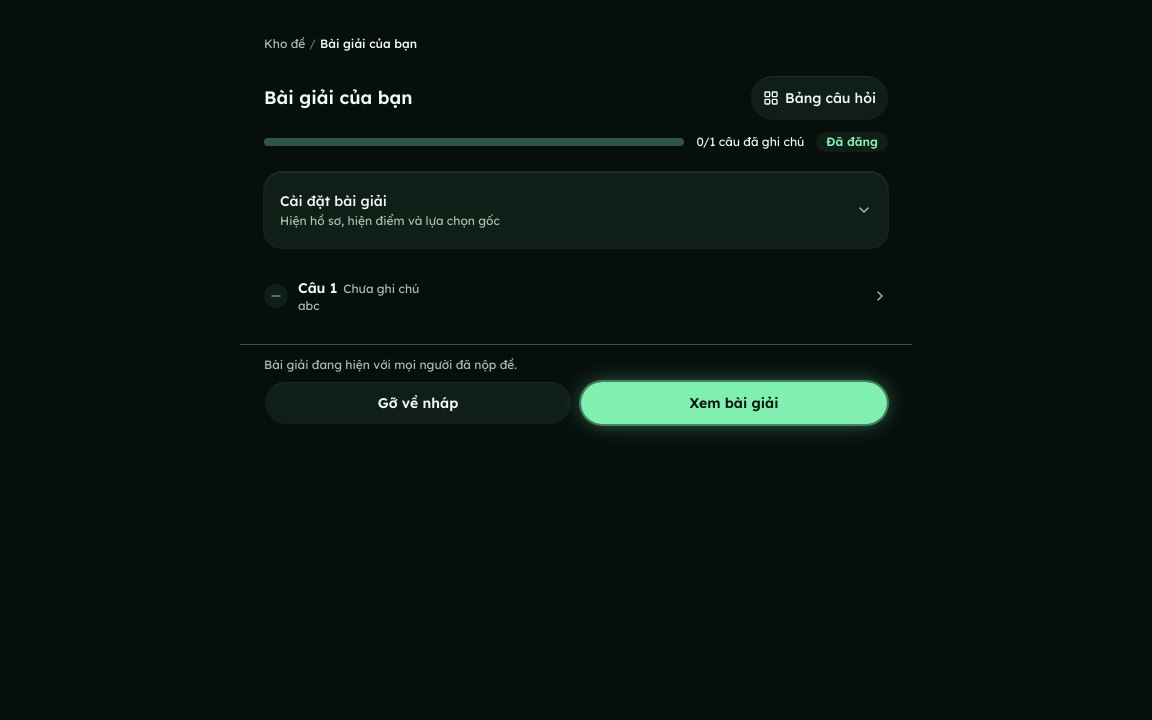
SolutionEditorScreen — NoteSheet, lỗi belowWordCount (Required Test #1) › role=alert đúng chữ, chữ trong ô không mất, tấm trượt vẫn mở
The width and height of the screenshot is (1152, 720).
Click the button with aria-label "Câu 1," at (318, 288), box [264,268,888,324]
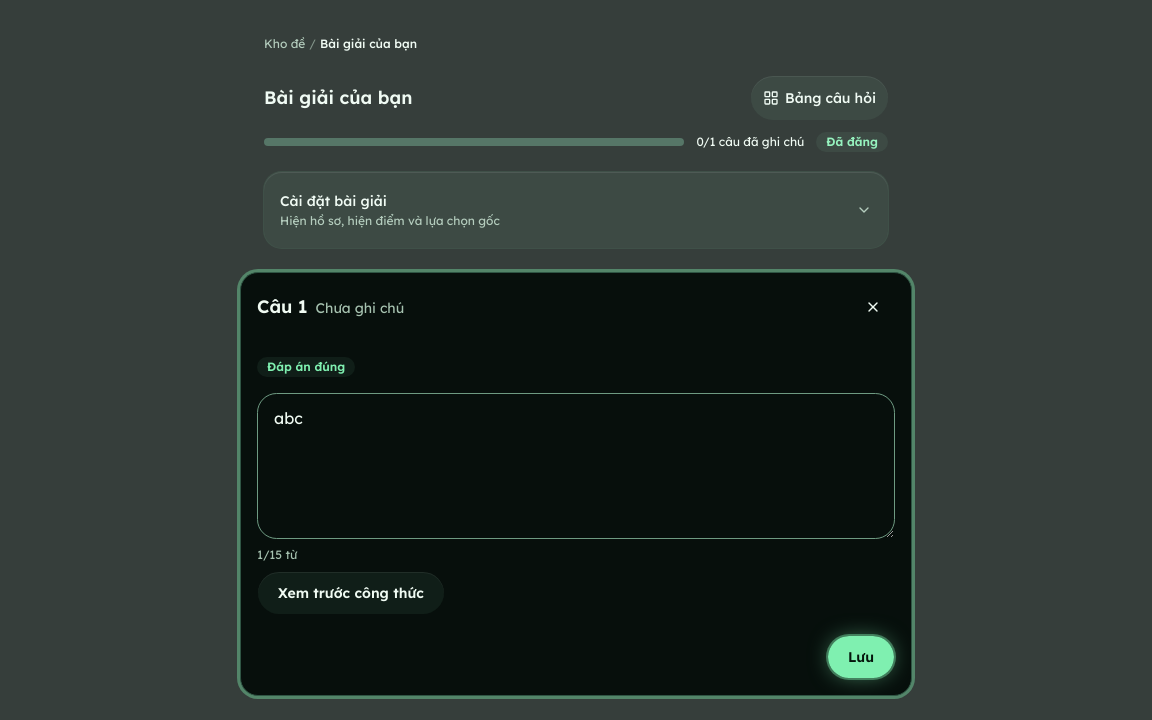
Click the button "Lưu" at (861, 657), box [827,635,895,679]
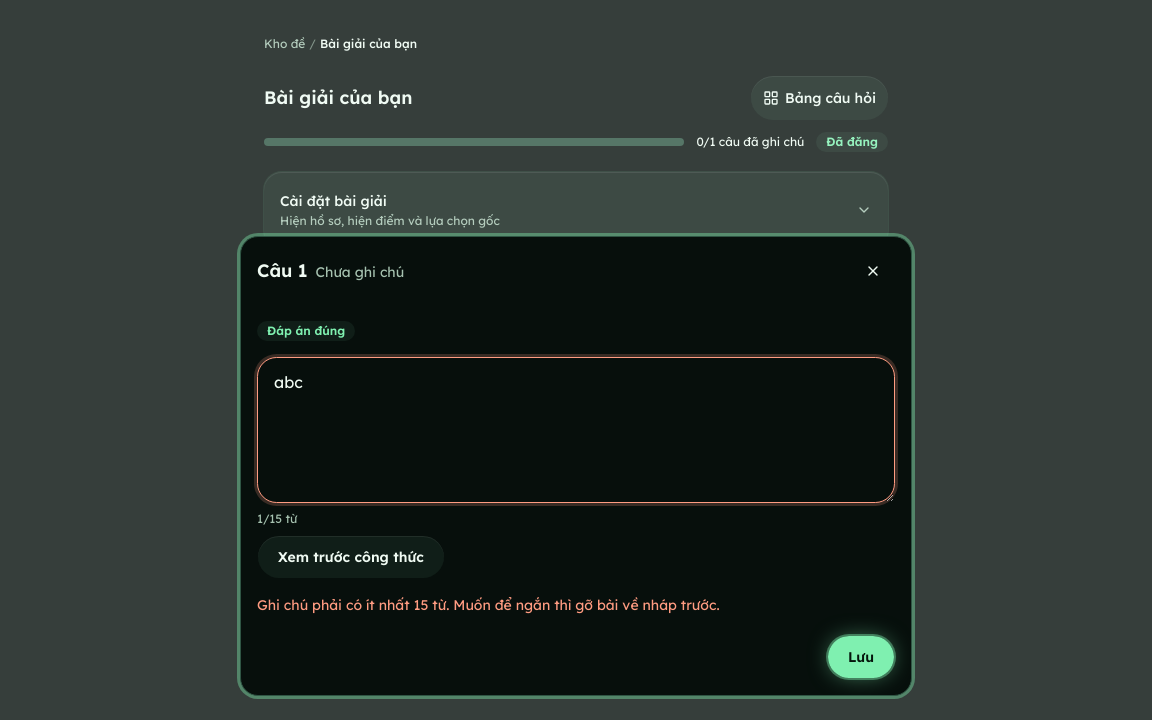
Now the text box holds "abc", box [257,357,895,503]
Now the message reads "Ghi chú phải có ít nhất 15 từ. Muốn để ngắn thì gỡ bài về nháp trước.", box [257,596,720,614]
